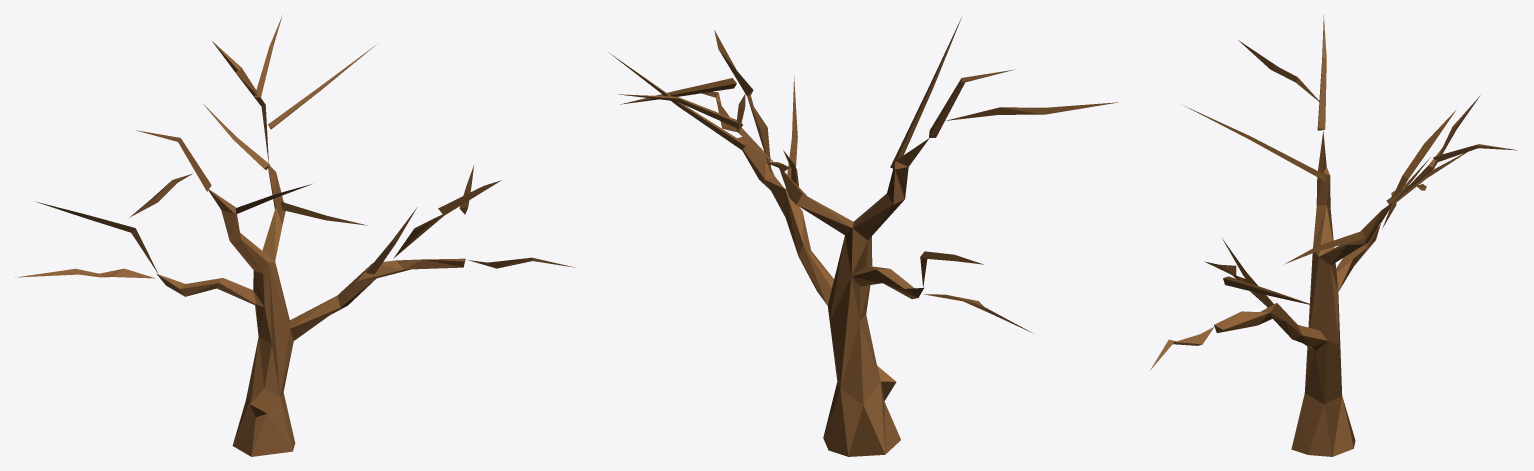
The model's file is guayacan_3_bare_far.glb.
3 renders of one model, left to right at view 1: azimuth 30°, elevation 25°; view 2: azimuth 150°, elevation 25°; view 3: azimuth 270°, elevation 25°, orthographic. The views are drawn at different scales.
Visible parts, largest first — view 1: guayacan_3_bare_far; view 2: guayacan_3_bare_far; view 3: guayacan_3_bare_far.
Boxes of the visible parts, x1,y1,x2,y2 form: guayacan_3_bare_far: (15, 15, 574, 456); guayacan_3_bare_far: (608, 17, 1118, 456); guayacan_3_bare_far: (1150, 14, 1517, 456).
Size of the model in its own units: 7.56 by 5.82 by 5.39.
